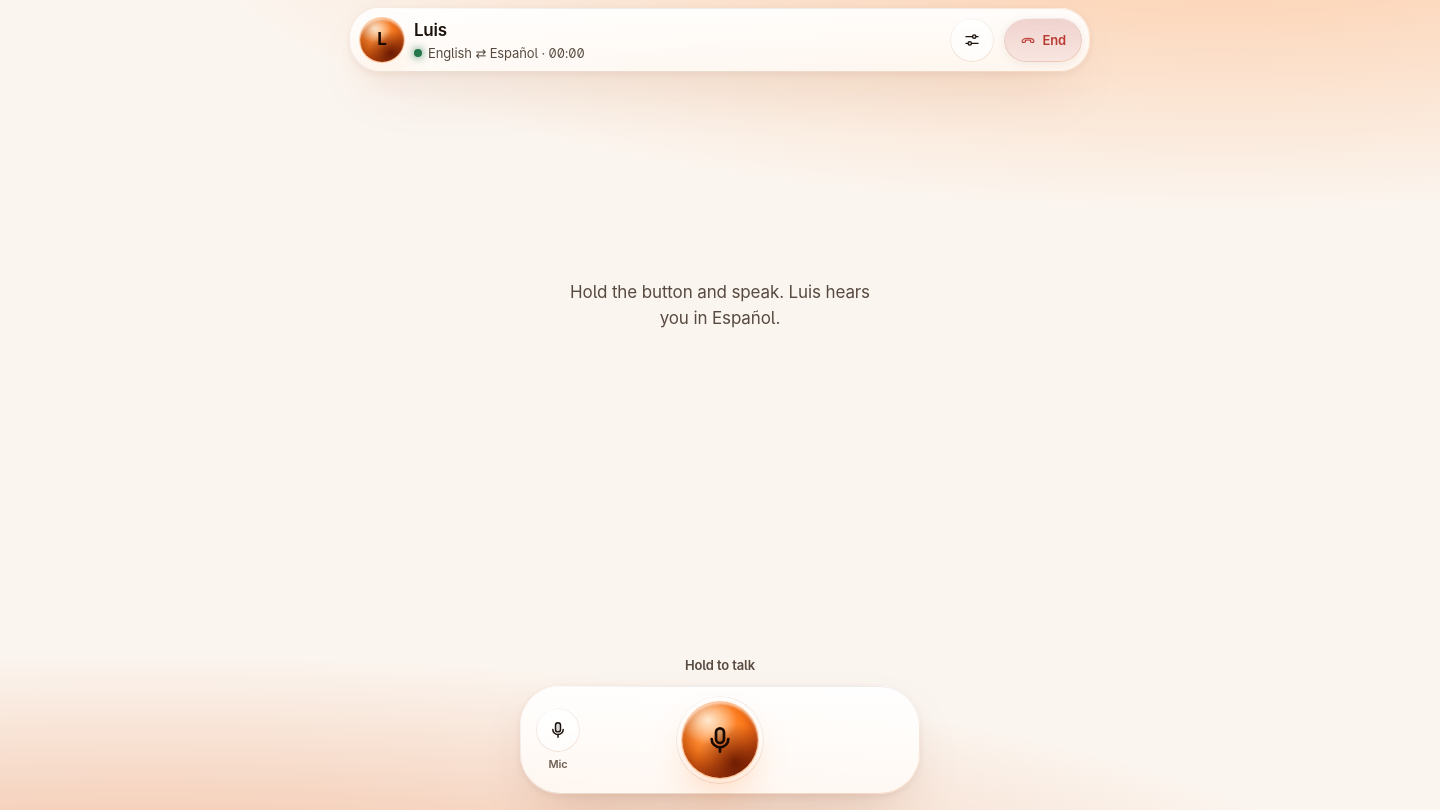
CallRoom view over the engine › mic off stops capture immediately and disables talking
The image size is (1440, 810).
Press the mouse on the button named "Push to talk": [720, 740] box [676,696,764,784]
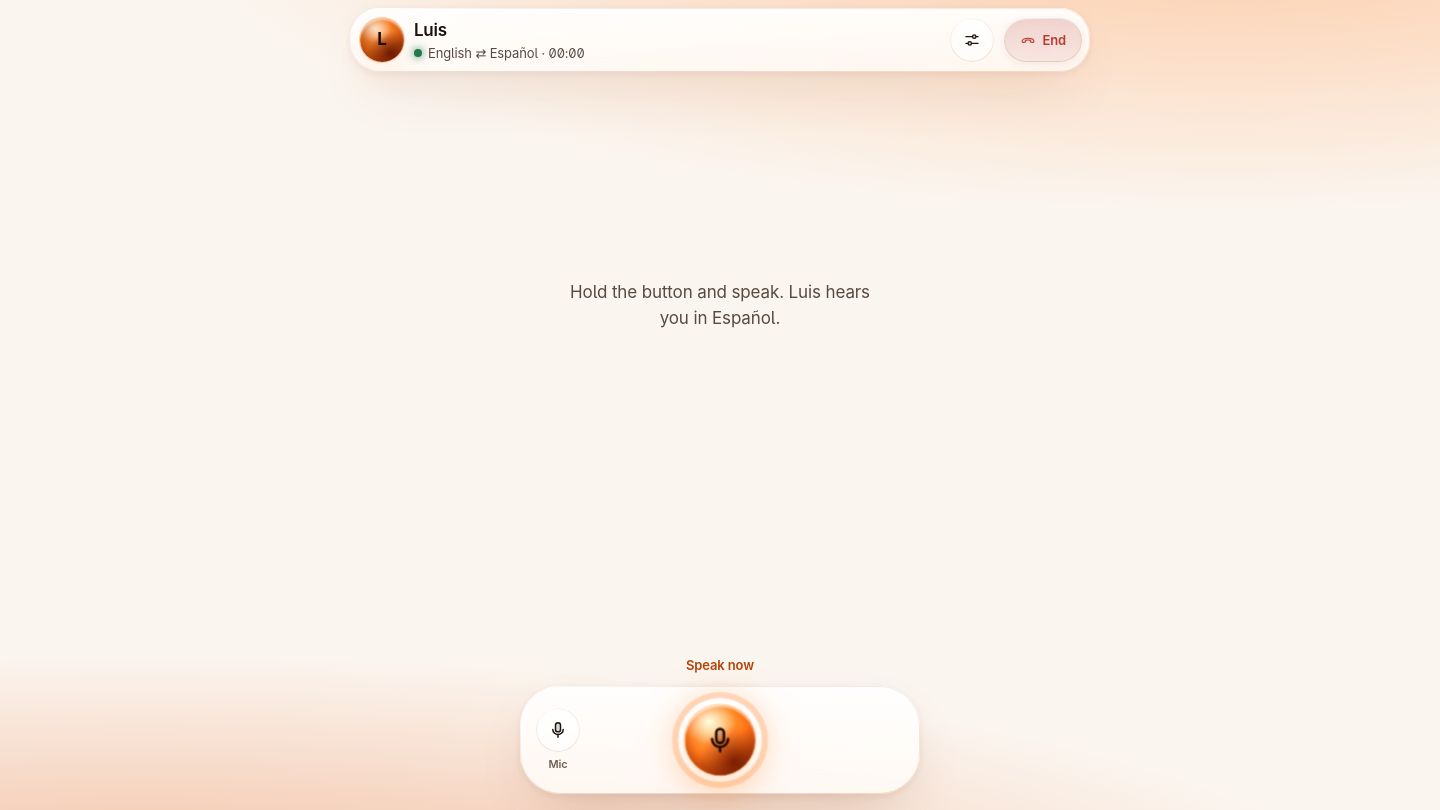
Click the button named "Turn microphone off": [558, 730] box [536,708,580,752]
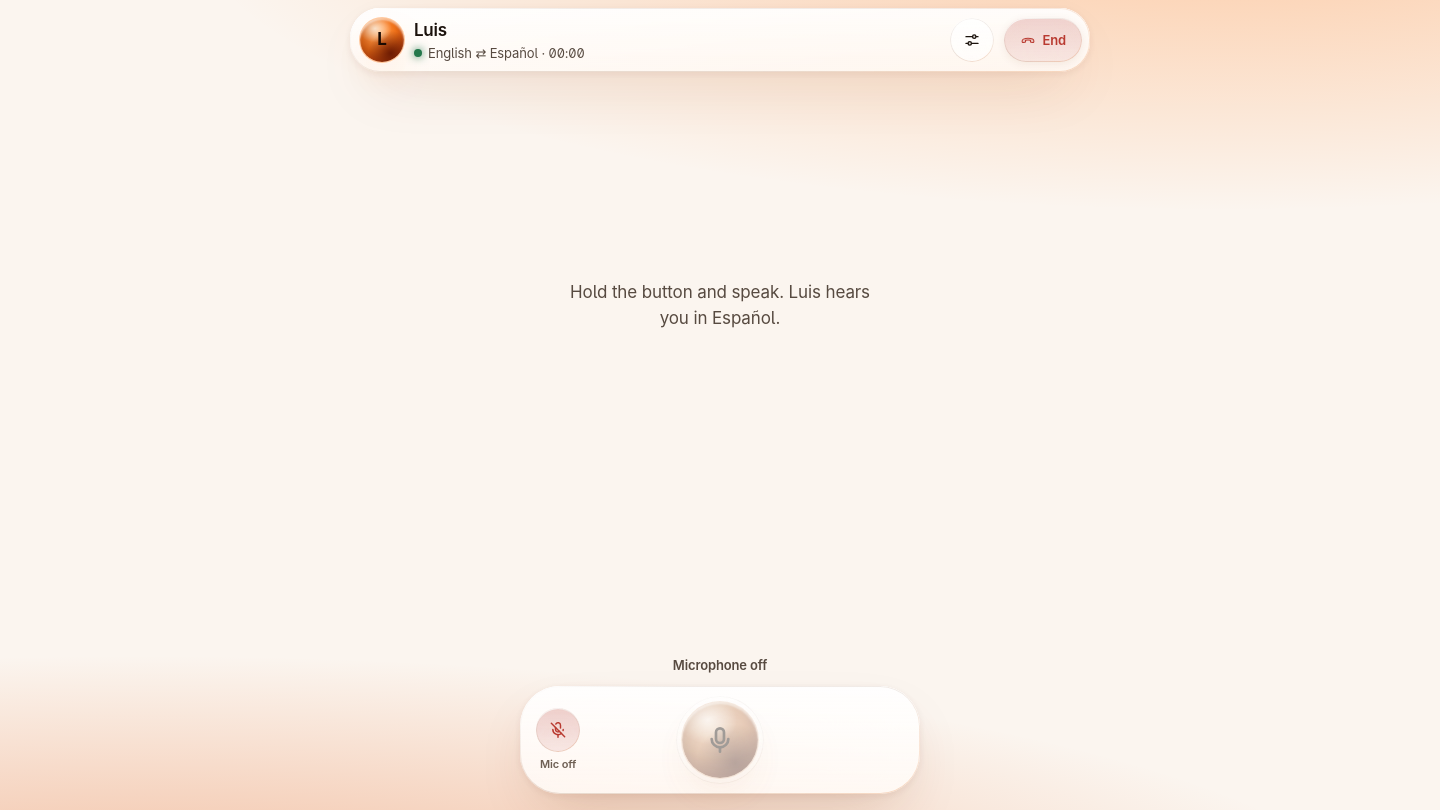
expect the text "Microphone off" is shown: met, box [673,657,767,673]
expect the button named "Push to talk" is disabled: met, box [676,696,764,784]
